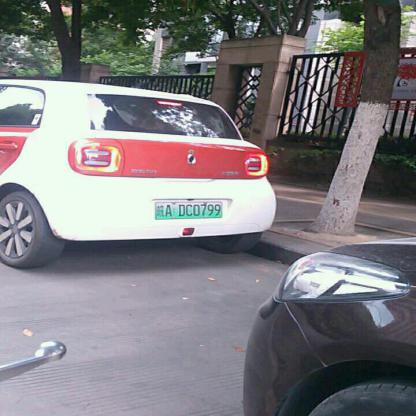lp: (156, 202, 222, 218)
